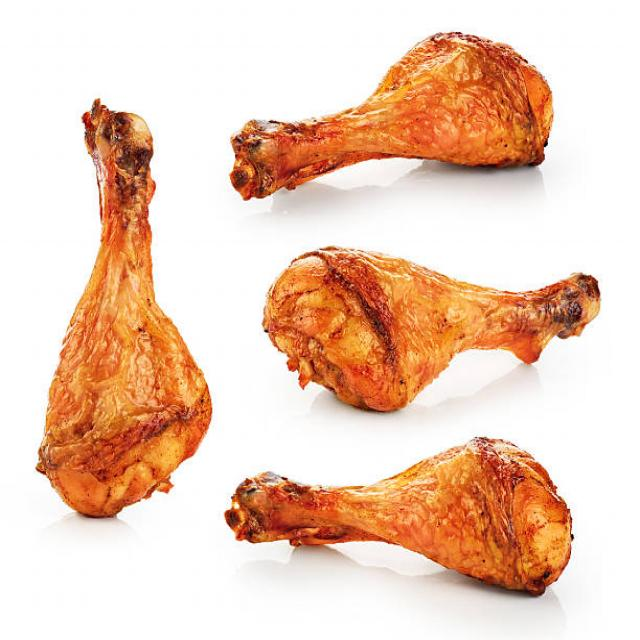Chicken: (36, 90, 209, 516), (257, 235, 602, 417), (222, 431, 580, 605), (229, 23, 555, 198)
